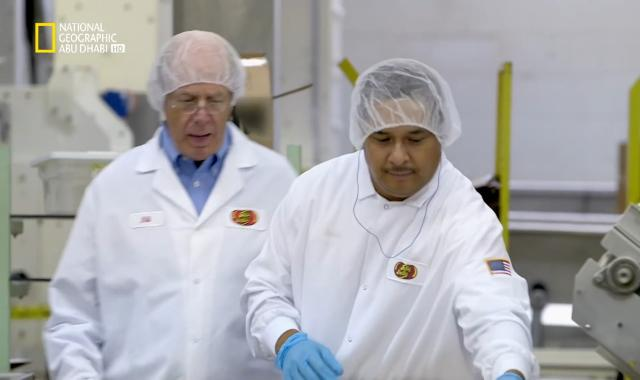hairnet: (351, 59, 456, 148), (150, 30, 238, 103)
